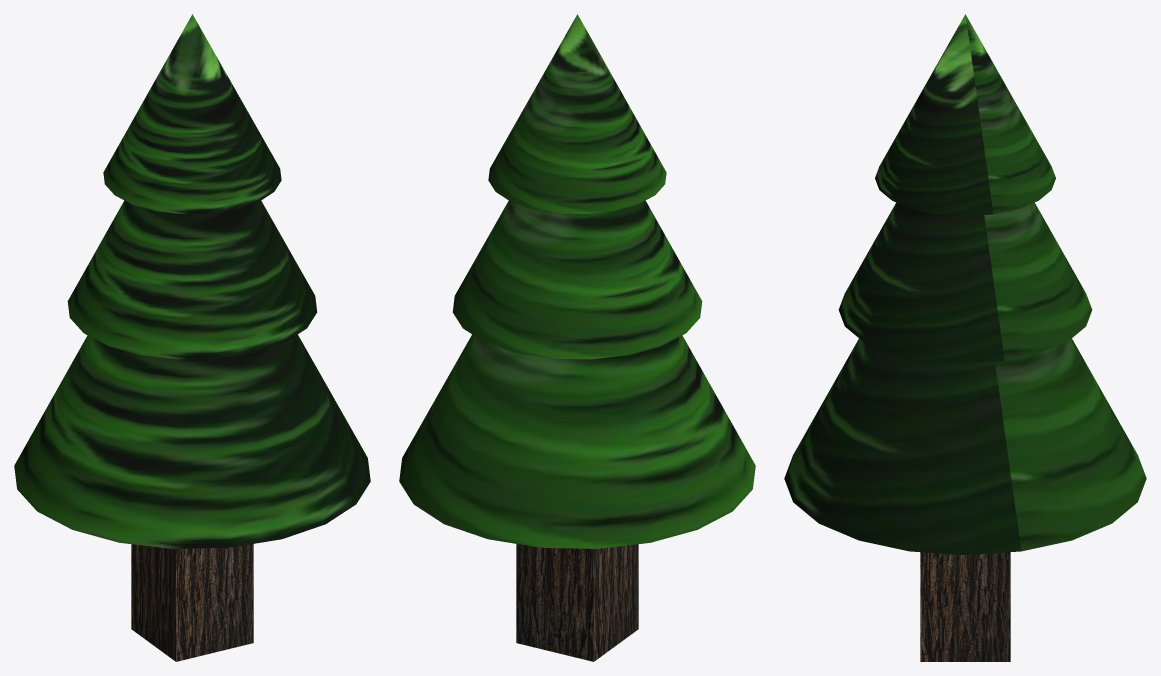
The model's file is tree2.fbx.
The picture shows the model from 3 angles, left to right: view 1: azimuth 30°, elevation 25°; view 2: azimuth 150°, elevation 25°; view 3: azimuth 270°, elevation 25°; orthographic projection.
Visible parts, largest first — view 1: Tree; view 2: Tree; view 3: Tree.
Boxes of the visible parts, <box> form: Tree: <box>14,14,370,661</box>; Tree: <box>399,14,755,661</box>; Tree: <box>784,14,1146,661</box>.
Bounding box in the file's own units: 20000 × 38290 × 20000.
Materials: 2 (2 with a texture image).
